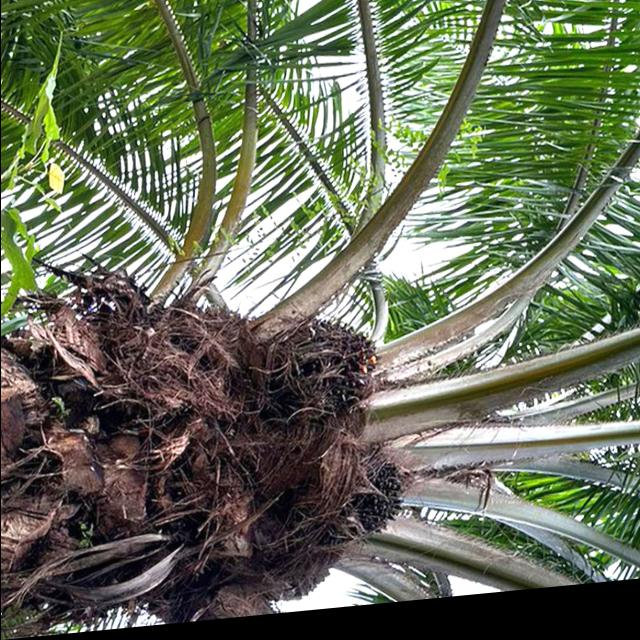almost: (257, 309, 387, 445)
